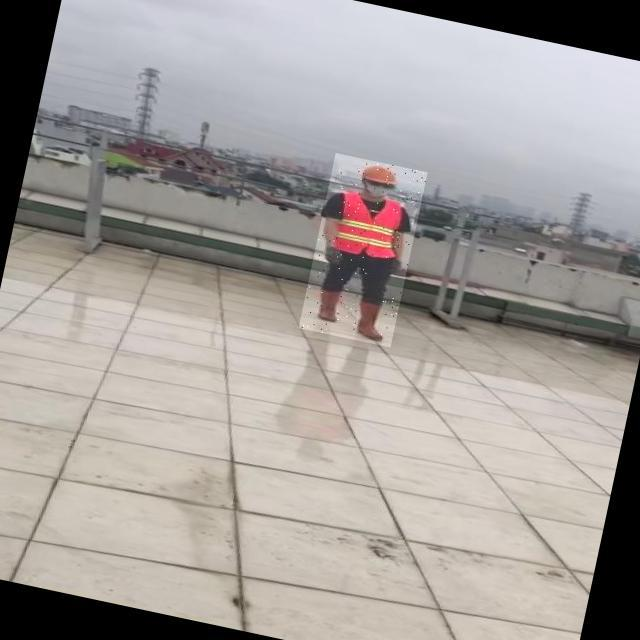Gloves: (318, 246, 345, 267), (383, 258, 408, 279)
Helmet: (358, 161, 401, 189)
Human: (298, 153, 427, 348)
Safety Boot: (351, 300, 394, 344), (312, 286, 344, 320)
Safety Vest: (326, 190, 407, 262)
